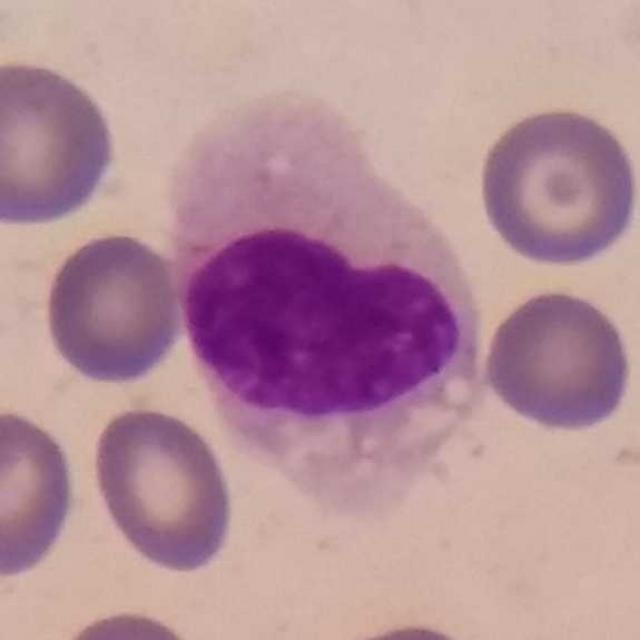mono: (171, 83, 492, 520)
